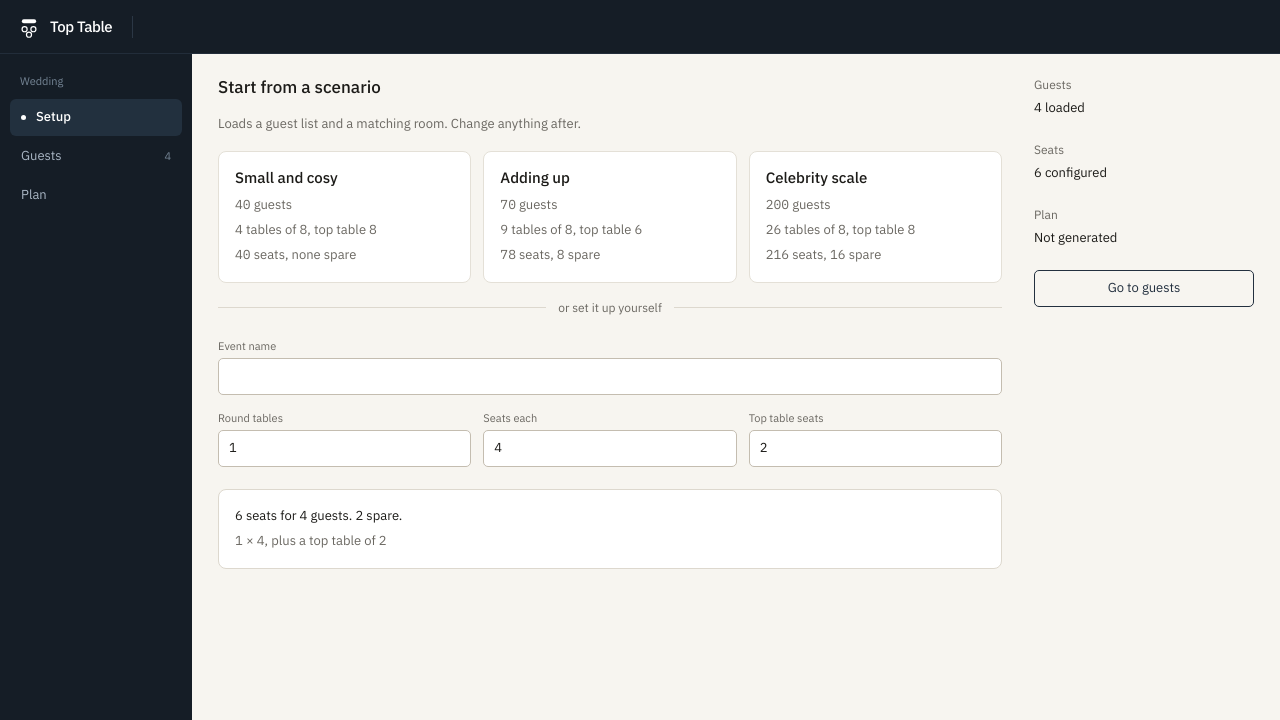
Test case: KB-5 ("the button that says Auto-allocate produces a state that says allocated") — the Setup screen's plan status › reads "Not generated" before Auto-allocate and "Allocated" after, driven through the real navigation
Expected: the text "Allocated" is not shown
Click the button "Plan": (96, 195) [10, 177, 182, 214]
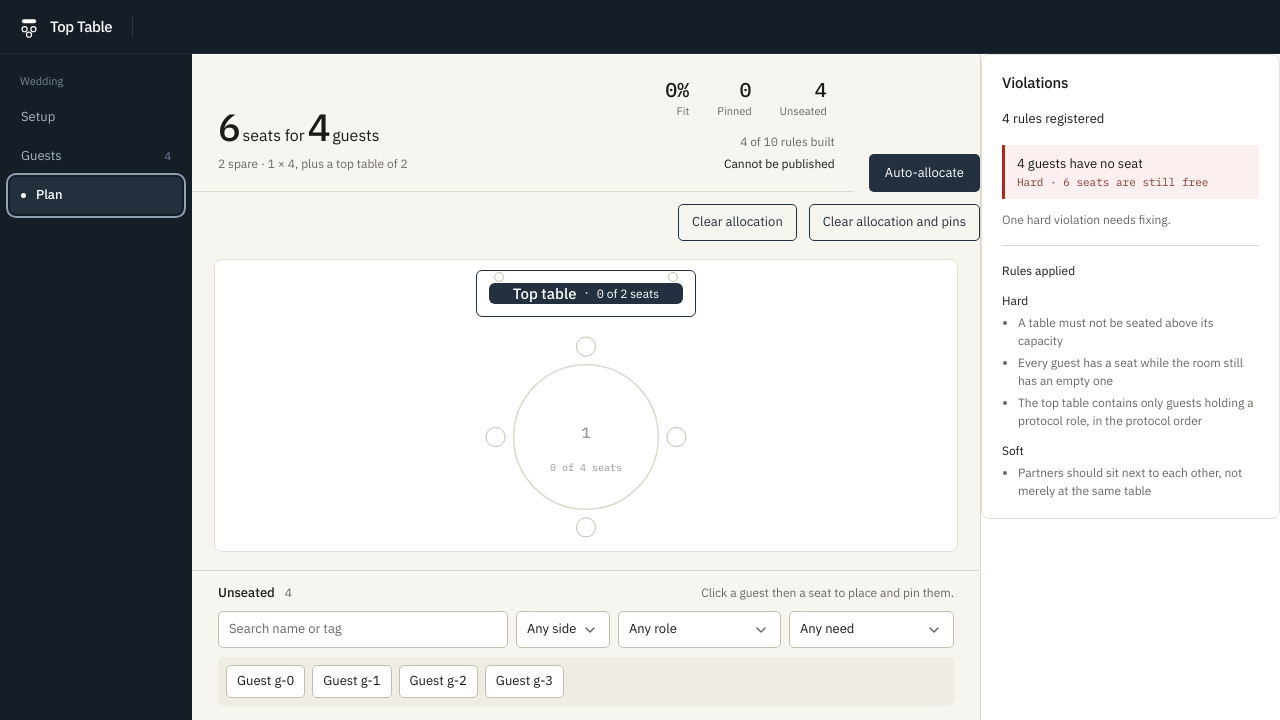
Click the button "Auto-allocate": (924, 173) [869, 154, 980, 192]
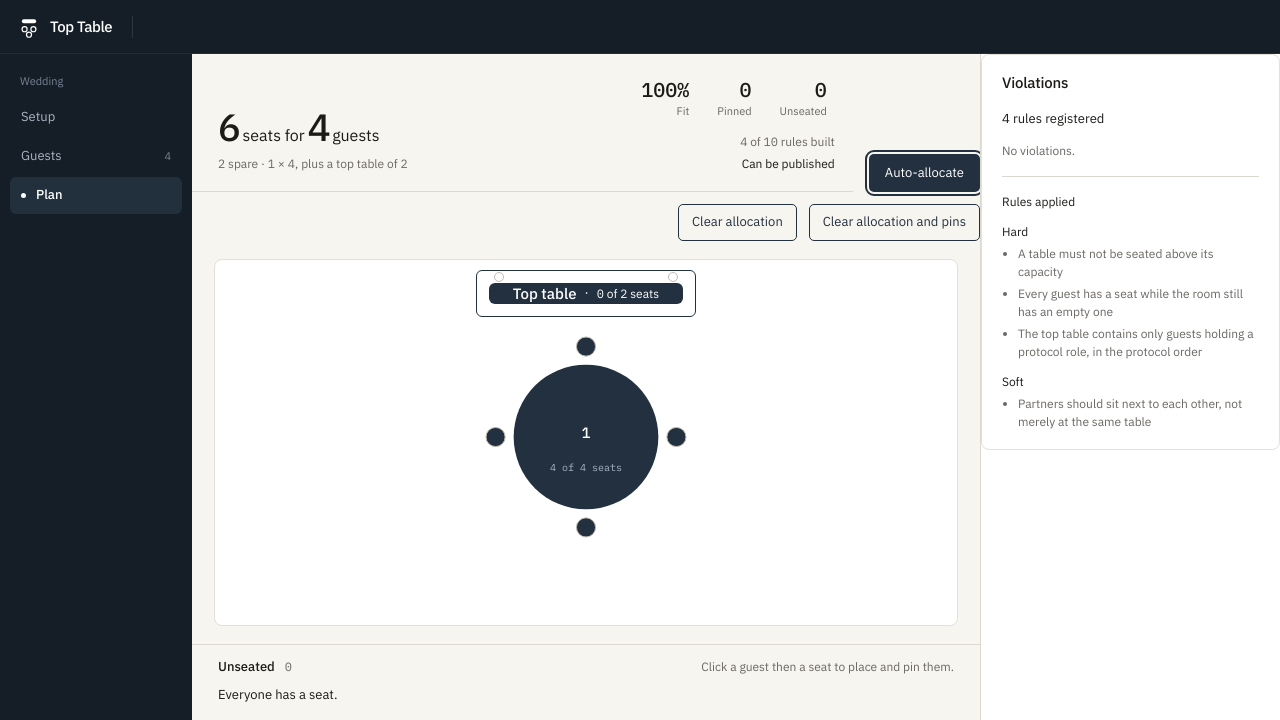
Click the button "Setup": (96, 118) [10, 99, 182, 136]
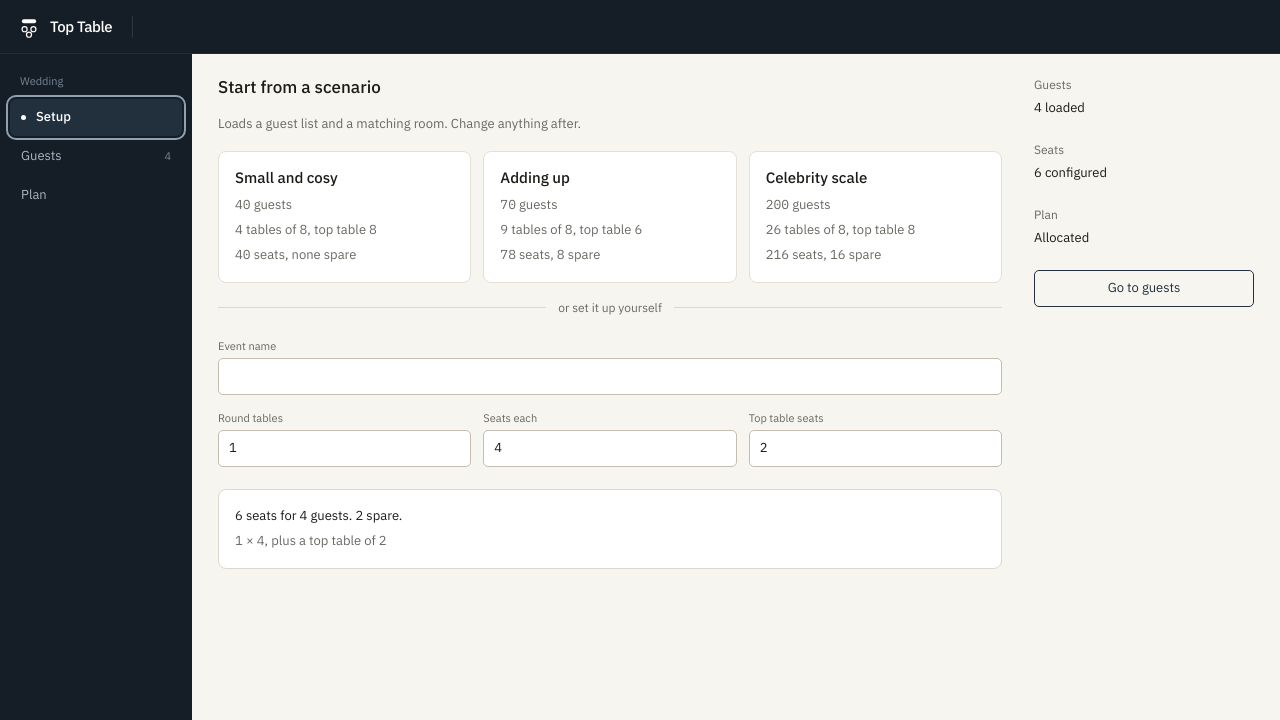
Expected: the text "Not generated" is not shown
Expected: the text "Allocated" is shown, [1034, 229, 1089, 246]
